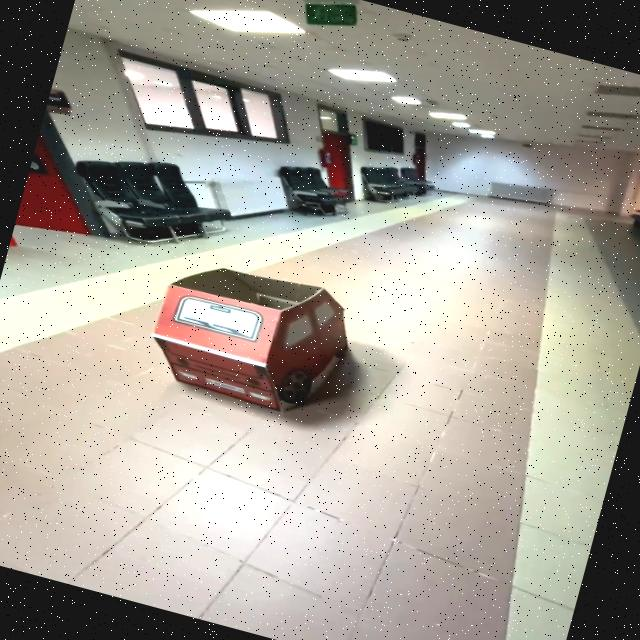red_car: (111, 231, 425, 452)
